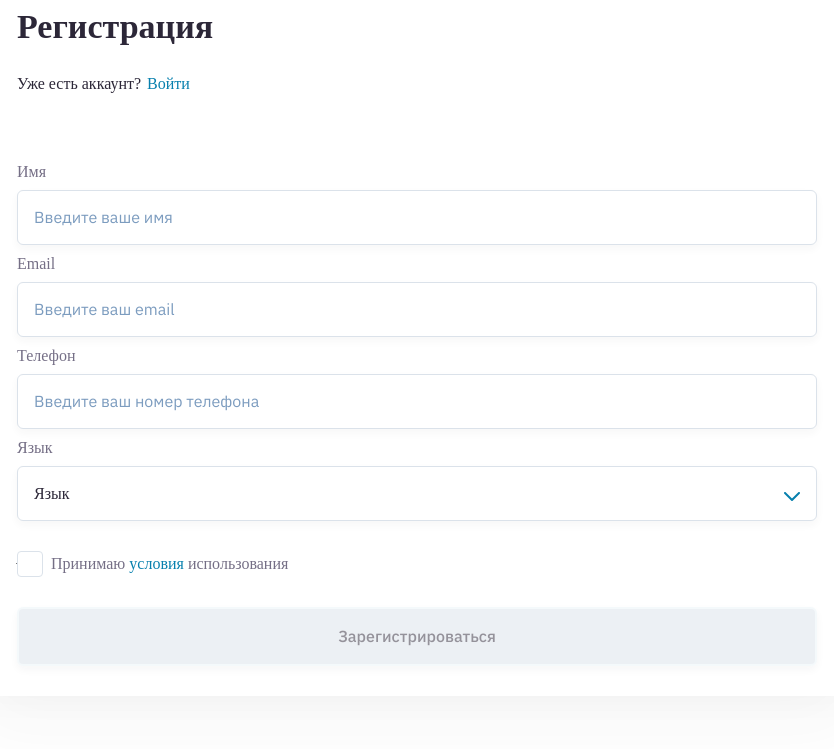
Test: SignUpContainer › Render emailError when email does not correct
Type "mail.mail.ru" into the field with placeholder "Введите ваш email". click: (417, 309)
box: [17,282,817,337]
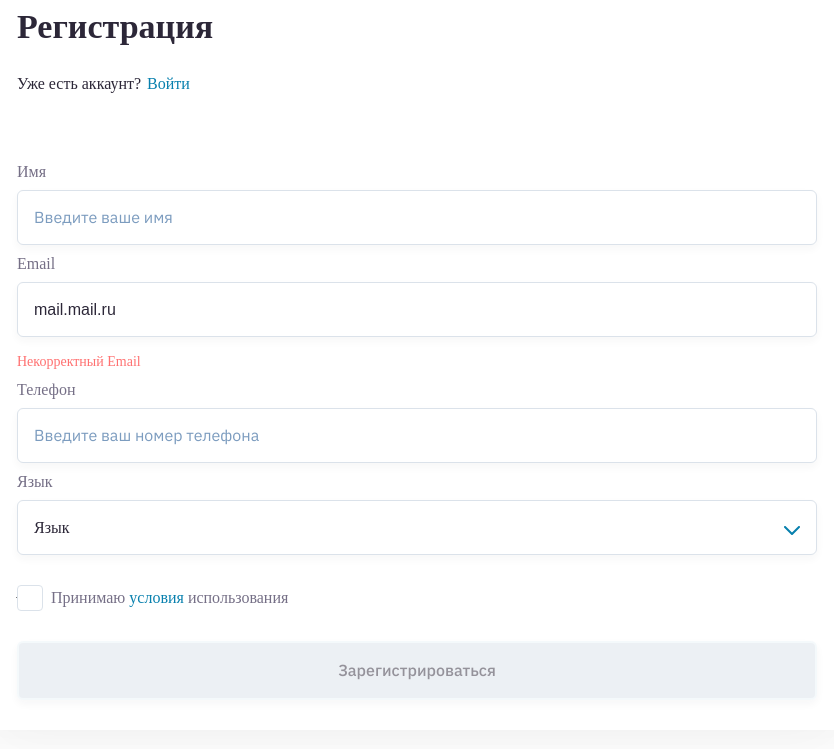
expect the text "Некорректный Email" is shown: met, box [17,354,141,369]
